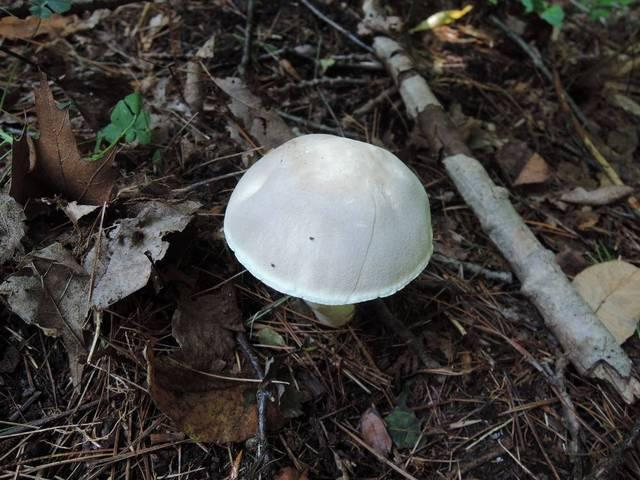Non-edible Mushroom: (221, 131, 434, 328)
